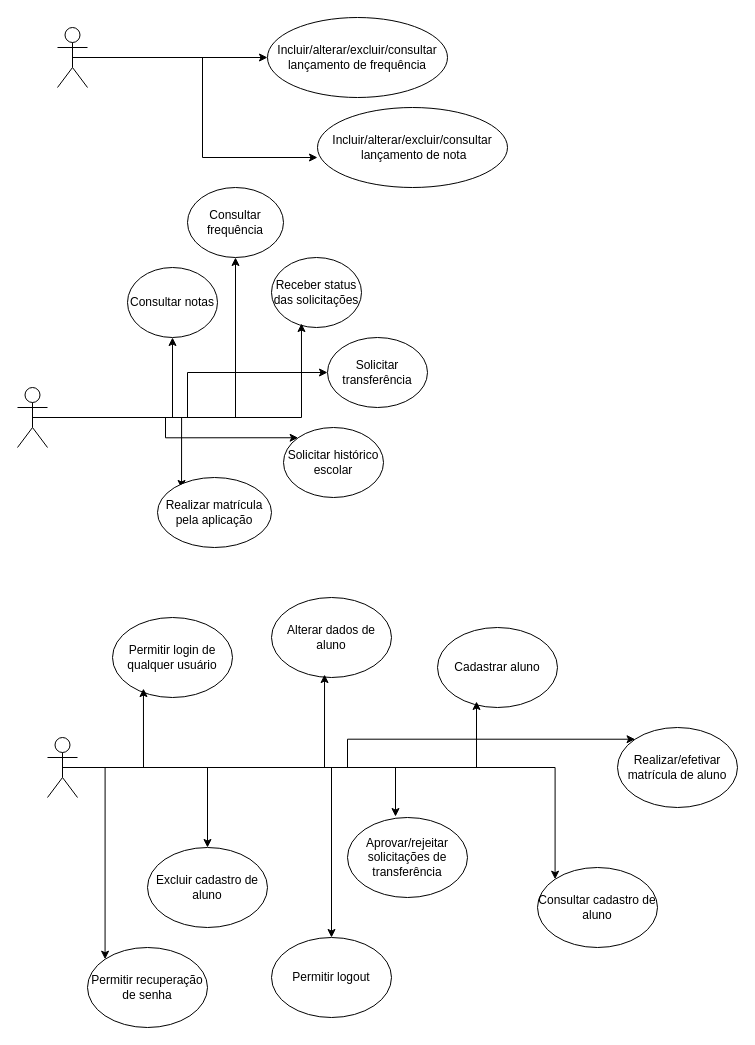
This 755x1045 diagram has some shape labels left out. Each missing label, with the box of its shape:
Aluno: (16, 386, 48, 448)
Professor: (56, 26, 88, 88)
Secretaria: (46, 736, 78, 798)
